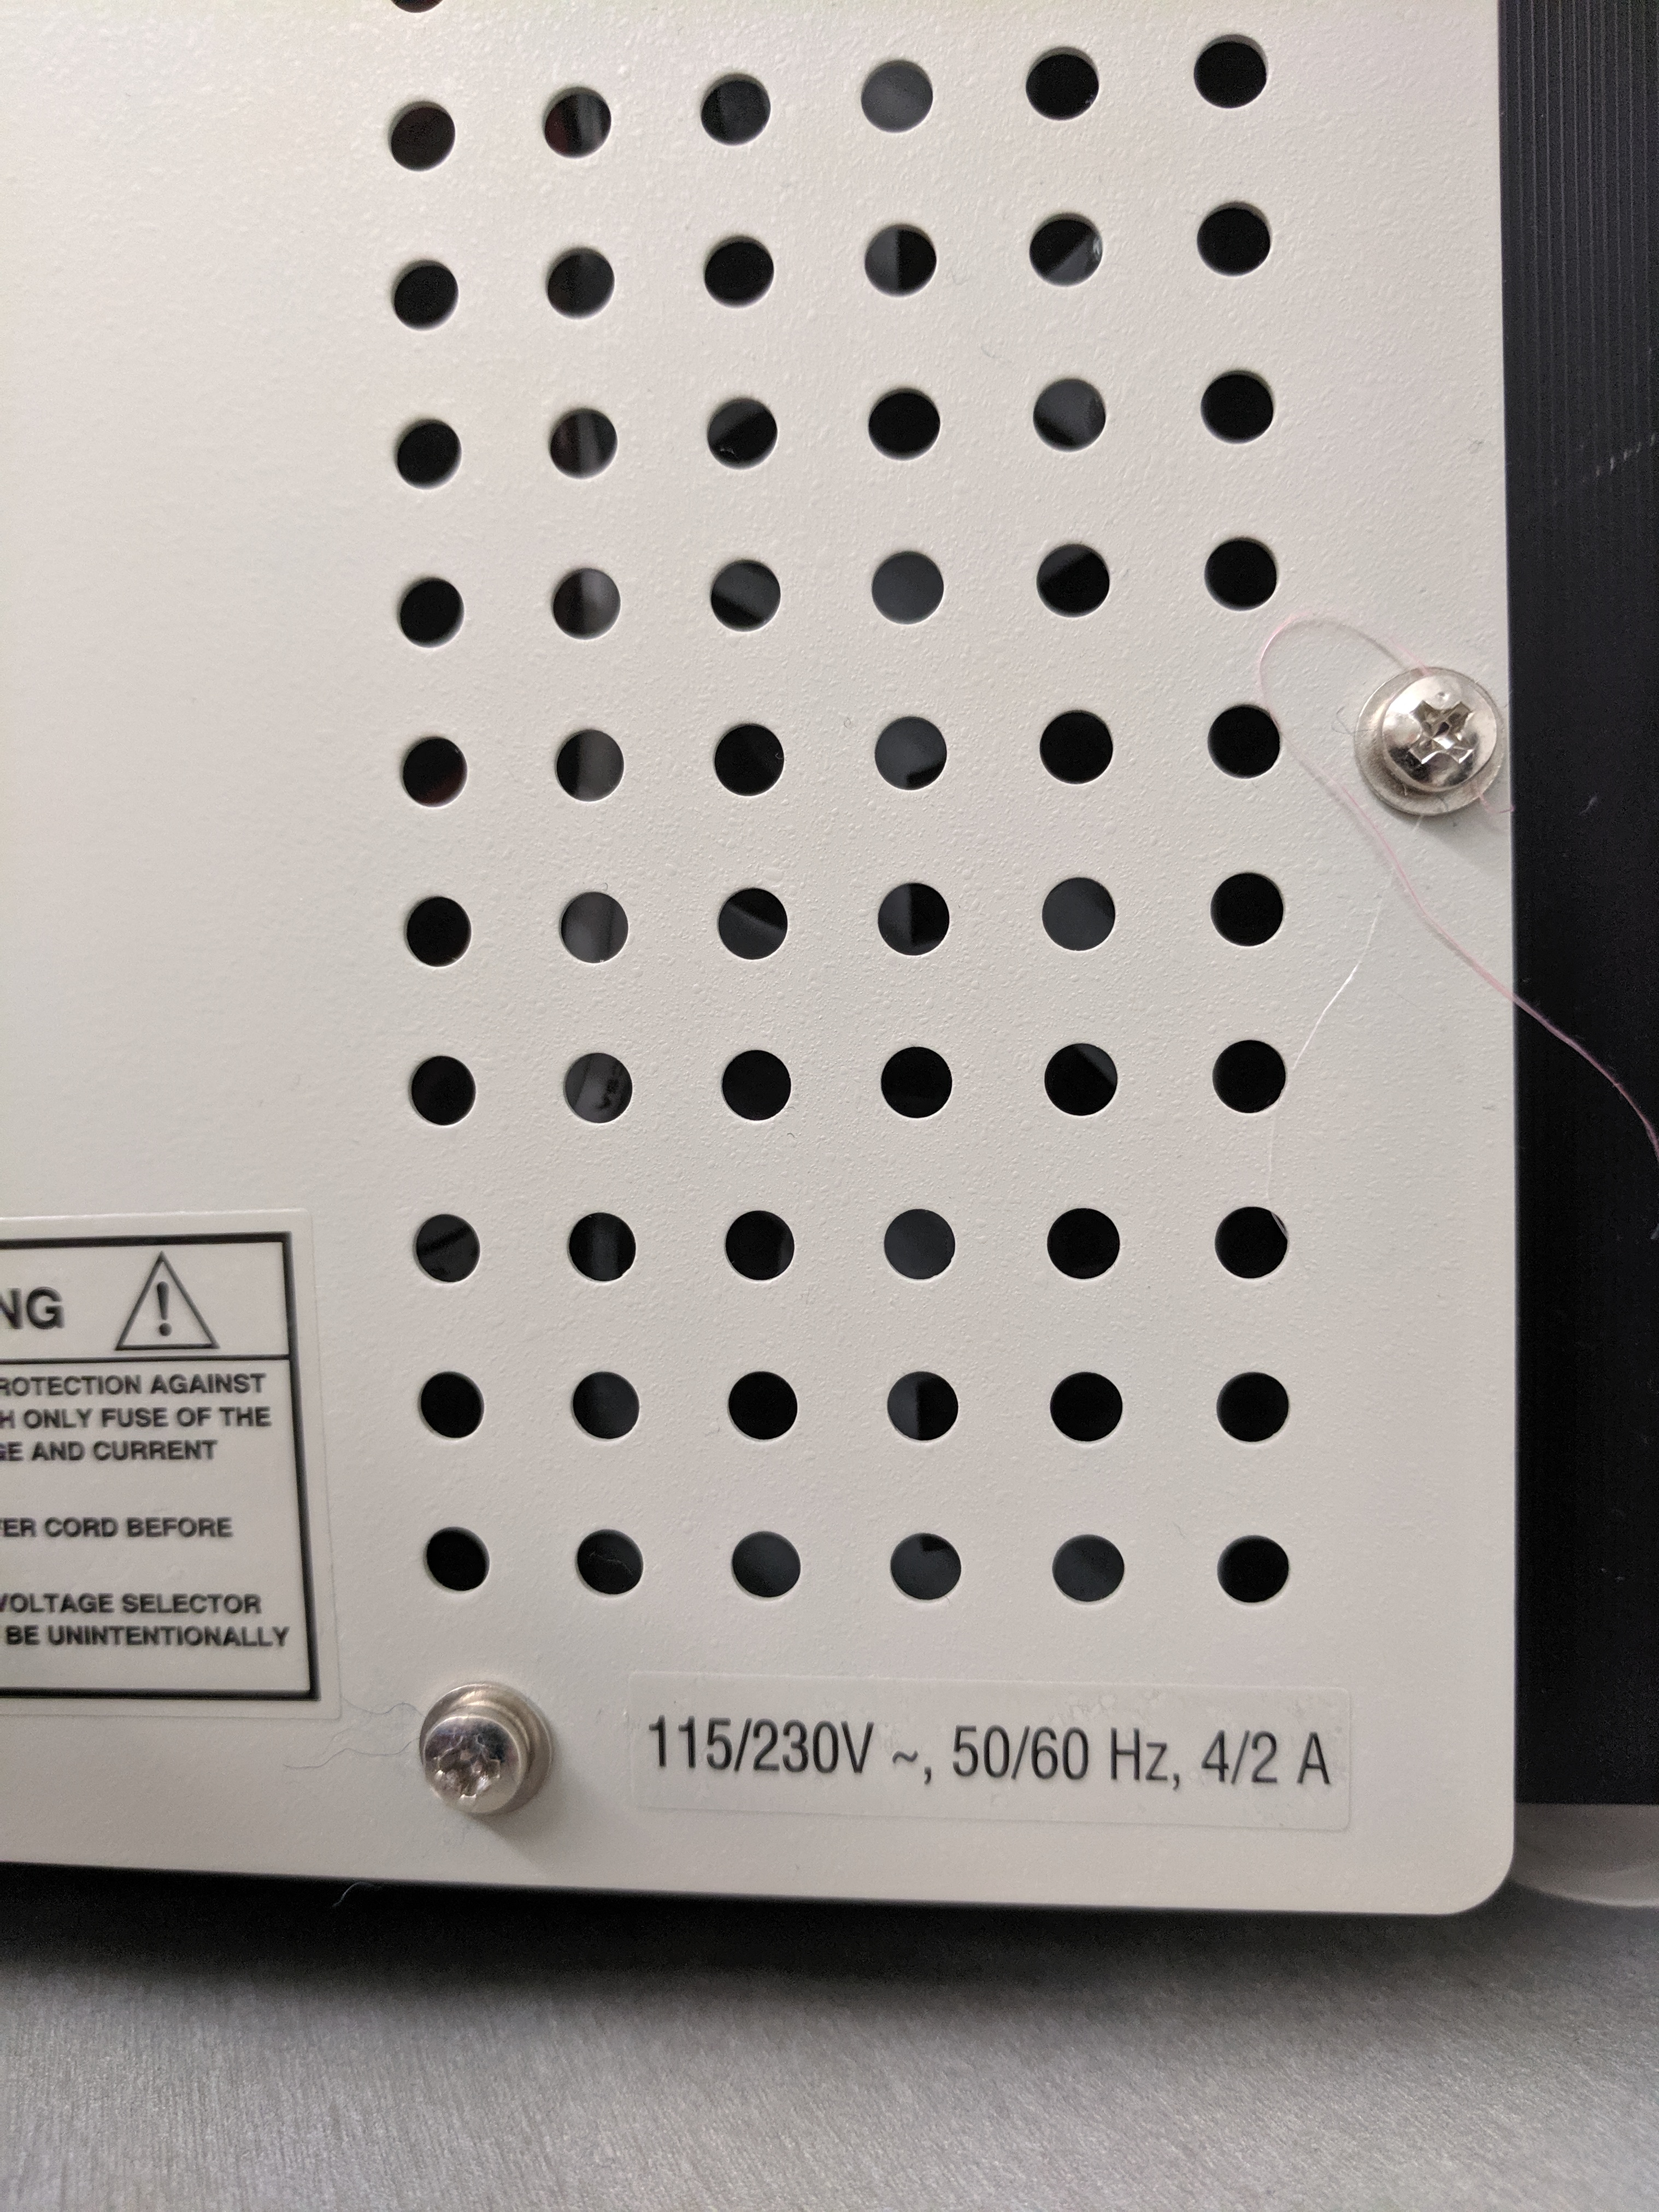cross_recessed_screw: (1359, 662, 1499, 805), (416, 1696, 528, 1811)
